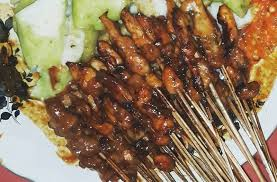sate: (24, 2, 273, 178)
